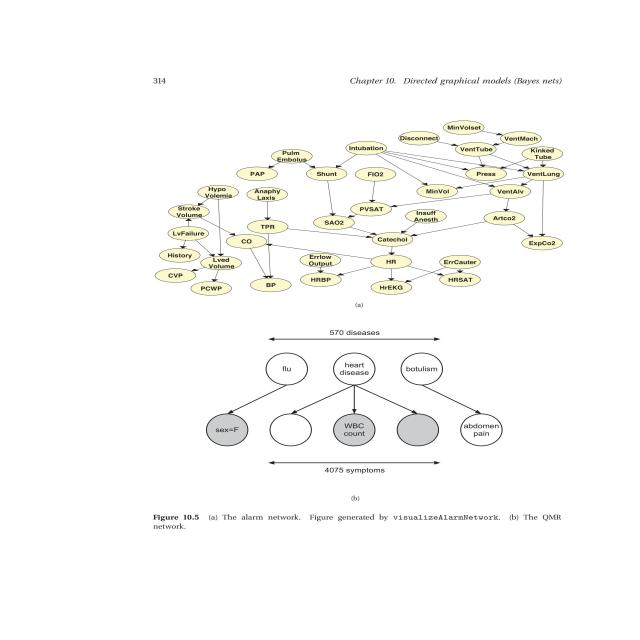diagram: (99, 108, 623, 550)
